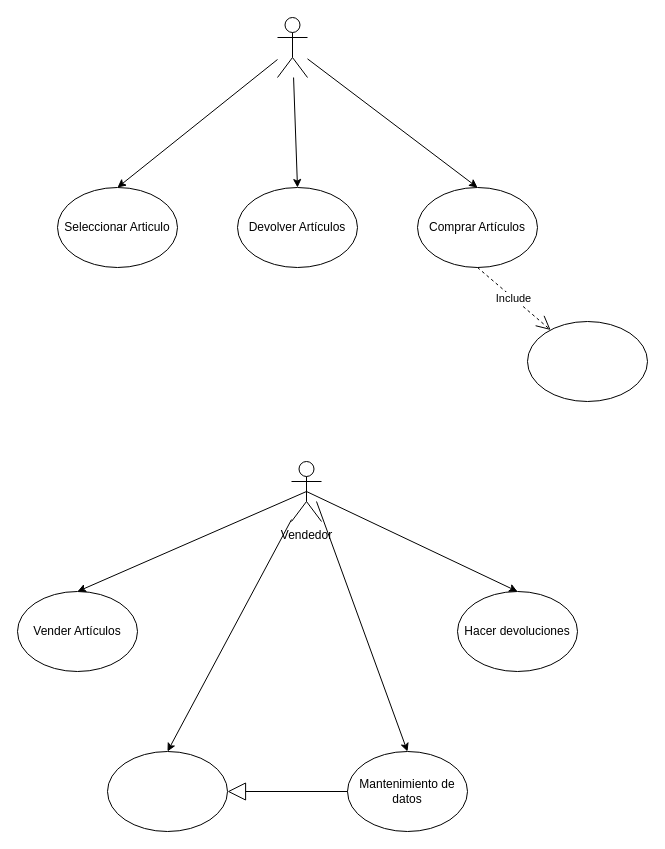
This 665x849 diagram has some shape labels left out. The centre of each missing label's shape, as x and y in pixels:
Almacenar datos: the point at 167,791
Cliente: the point at 292,47
Pagar: the point at 587,361
